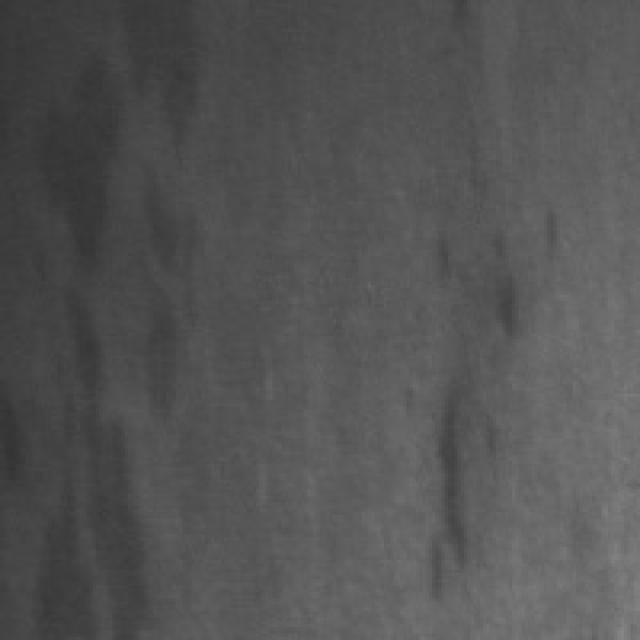inclusion: (10, 215, 140, 628), (410, 205, 534, 627), (131, 32, 224, 419)
